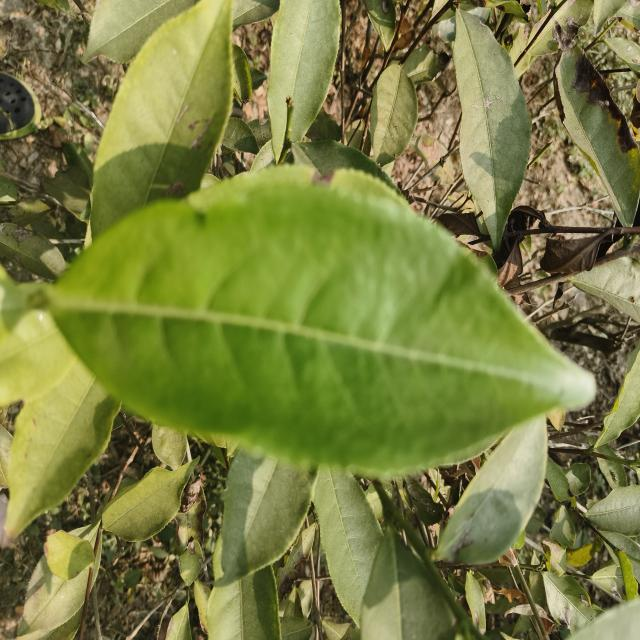Leaf: (50, 164, 595, 474), (91, 0, 232, 239), (6, 359, 120, 537), (453, 10, 530, 245), (553, 22, 640, 226), (436, 417, 547, 565), (213, 451, 317, 586), (267, 0, 340, 157), (314, 466, 382, 626), (360, 528, 455, 640), (102, 457, 199, 541), (0, 311, 77, 405), (82, 0, 194, 63), (207, 565, 281, 640), (19, 556, 89, 635), (371, 65, 418, 166), (570, 256, 640, 323), (596, 344, 640, 446), (0, 222, 65, 278), (529, 0, 593, 56), (542, 572, 597, 633), (176, 478, 206, 585), (586, 485, 640, 536), (44, 531, 94, 579), (403, 45, 450, 86), (152, 424, 187, 468), (365, 0, 395, 51), (222, 117, 259, 154), (465, 572, 486, 634), (604, 37, 640, 73), (546, 457, 573, 502), (232, 44, 252, 104), (165, 604, 191, 640), (564, 463, 591, 496), (194, 580, 210, 633), (69, 524, 98, 553), (280, 616, 312, 640)
